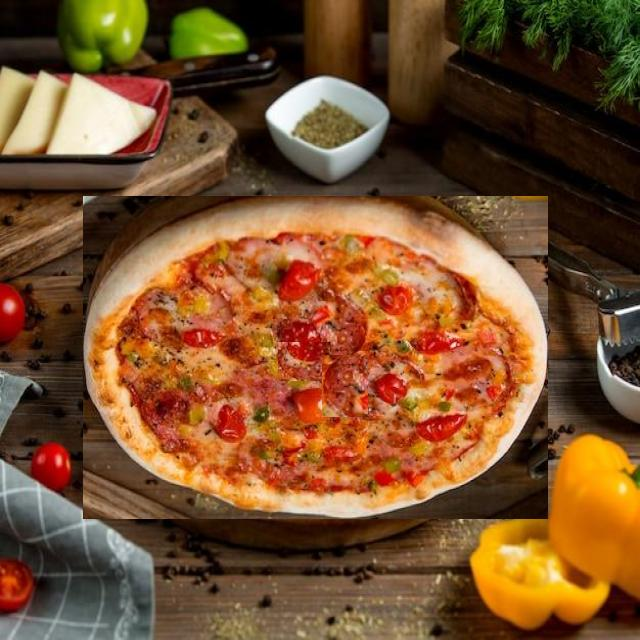pepperoni: (322, 355, 368, 417), (278, 342, 330, 381)
pizza: (83, 196, 548, 519)
